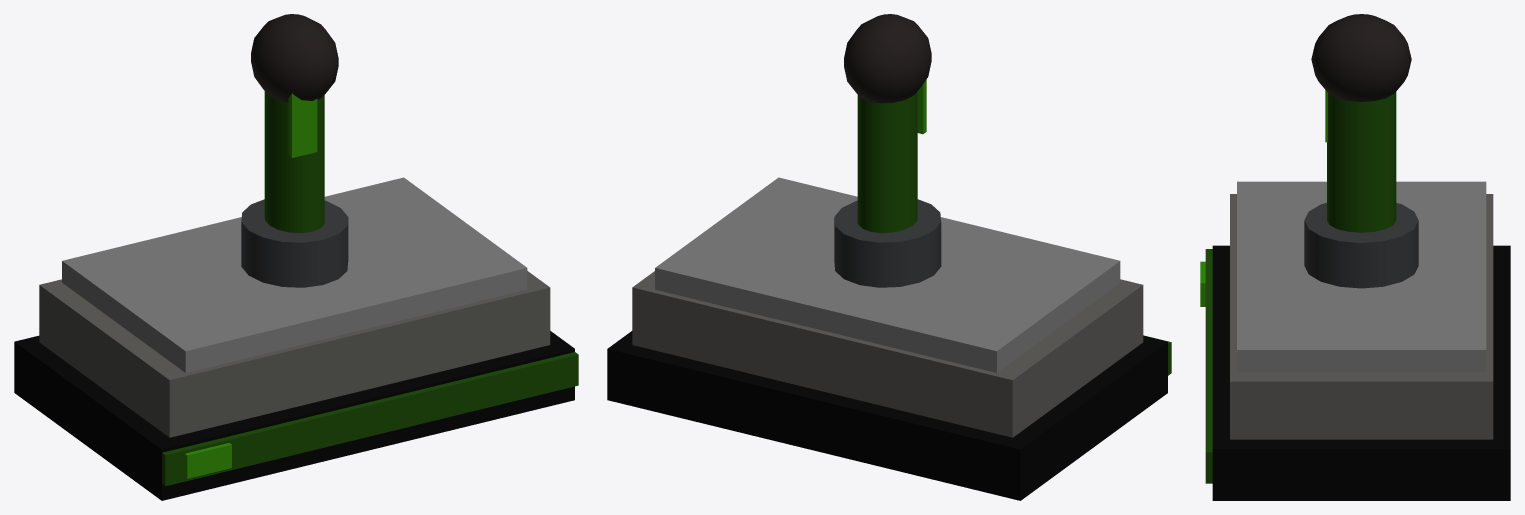
The model's file is CMU3DHandCMStampApprovedCloud.glb.
3 views of the same model, side by side, from view 1: azimuth 30°, elevation 25°; view 2: azimuth 150°, elevation 25°; view 3: azimuth 270°, elevation 25° (orthographic).
Parts seen in each view (by area): view 1: platen upper rail, upper metal platen, rubber stamp platen, colored base identity band, handle mounting collar, colored handle stem, handle upper grip, source colored handle glint, colored base highlight; view 2: platen upper rail, rubber stamp platen, upper metal platen, colored handle stem, handle mounting collar, handle upper grip; view 3: platen upper rail, rubber stamp platen, upper metal platen, colored handle stem, handle mounting collar, handle upper grip, colored base identity band.
Boxes of the visible parts, x1=… form: platen upper rail: x1=62, y1=177, x2=527, y2=372; upper metal platen: x1=39, y1=271, x2=550, y2=437; rubber stamp platen: x1=14, y1=331, x2=574, y2=500; colored base identity band: x1=162, y1=352, x2=578, y2=486; handle mounting collar: x1=241, y1=199, x2=348, y2=287; colored handle stem: x1=264, y1=91, x2=324, y2=233; handle upper grip: x1=251, y1=14, x2=338, y2=102; source colored handle glint: x1=288, y1=93, x2=317, y2=157; colored base highlight: x1=184, y1=443, x2=231, y2=478; platen upper rail: x1=655, y1=177, x2=1120, y2=372; rubber stamp platen: x1=607, y1=331, x2=1167, y2=500; upper metal platen: x1=632, y1=271, x2=1143, y2=437; colored handle stem: x1=857, y1=91, x2=917, y2=233; handle mounting collar: x1=834, y1=199, x2=941, y2=287; handle upper grip: x1=844, y1=14, x2=931, y2=103; platen upper rail: x1=1237, y1=181, x2=1486, y2=371; rubber stamp platen: x1=1212, y1=245, x2=1510, y2=500; upper metal platen: x1=1230, y1=194, x2=1493, y2=439; colored handle stem: x1=1327, y1=92, x2=1396, y2=232; handle mounting collar: x1=1304, y1=203, x2=1418, y2=288; handle upper grip: x1=1311, y1=14, x2=1411, y2=101; colored base identity band: x1=1205, y1=249, x2=1212, y2=483.
Bounding box in the file's own units: 0.278 × 0.243 × 0.179.
